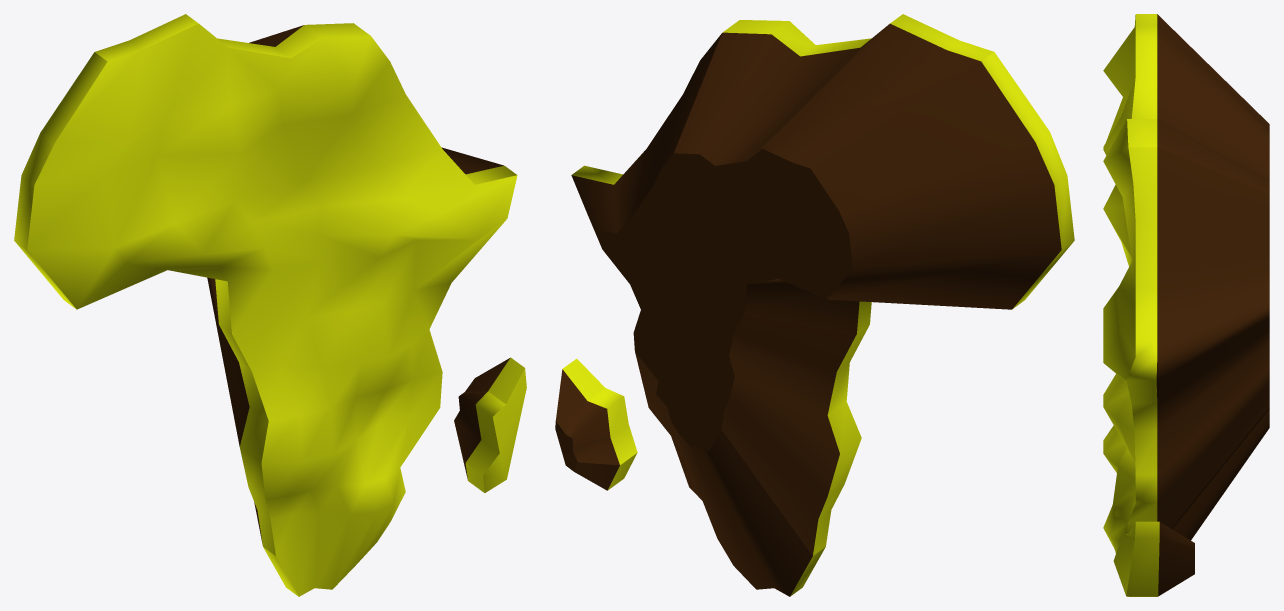
File: afrika.fbx
3 renders of one model, left to right at view 1: azimuth 30°, elevation 25°; view 2: azimuth 150°, elevation 25°; view 3: azimuth 270°, elevation 25°, orthographic. The views are drawn at different scales.
Visible parts, largest first — view 1: afrika_flach, madagaskar_flach; view 2: afrika_flach, madagaskar_flach; view 3: afrika_flach, madagaskar_flach.
Boxes of the visible parts, bbox=[...] form: afrika_flach: bbox=[14, 14, 517, 596]; madagaskar_flach: bbox=[454, 357, 526, 492]; afrika_flach: bbox=[571, 14, 1074, 596]; madagaskar_flach: bbox=[555, 358, 637, 490]; afrika_flach: bbox=[1103, 14, 1269, 553]; madagaskar_flach: bbox=[1113, 521, 1194, 596].
Bounding box in the file's own units: 11.07 × 12.68 × 3.85.
